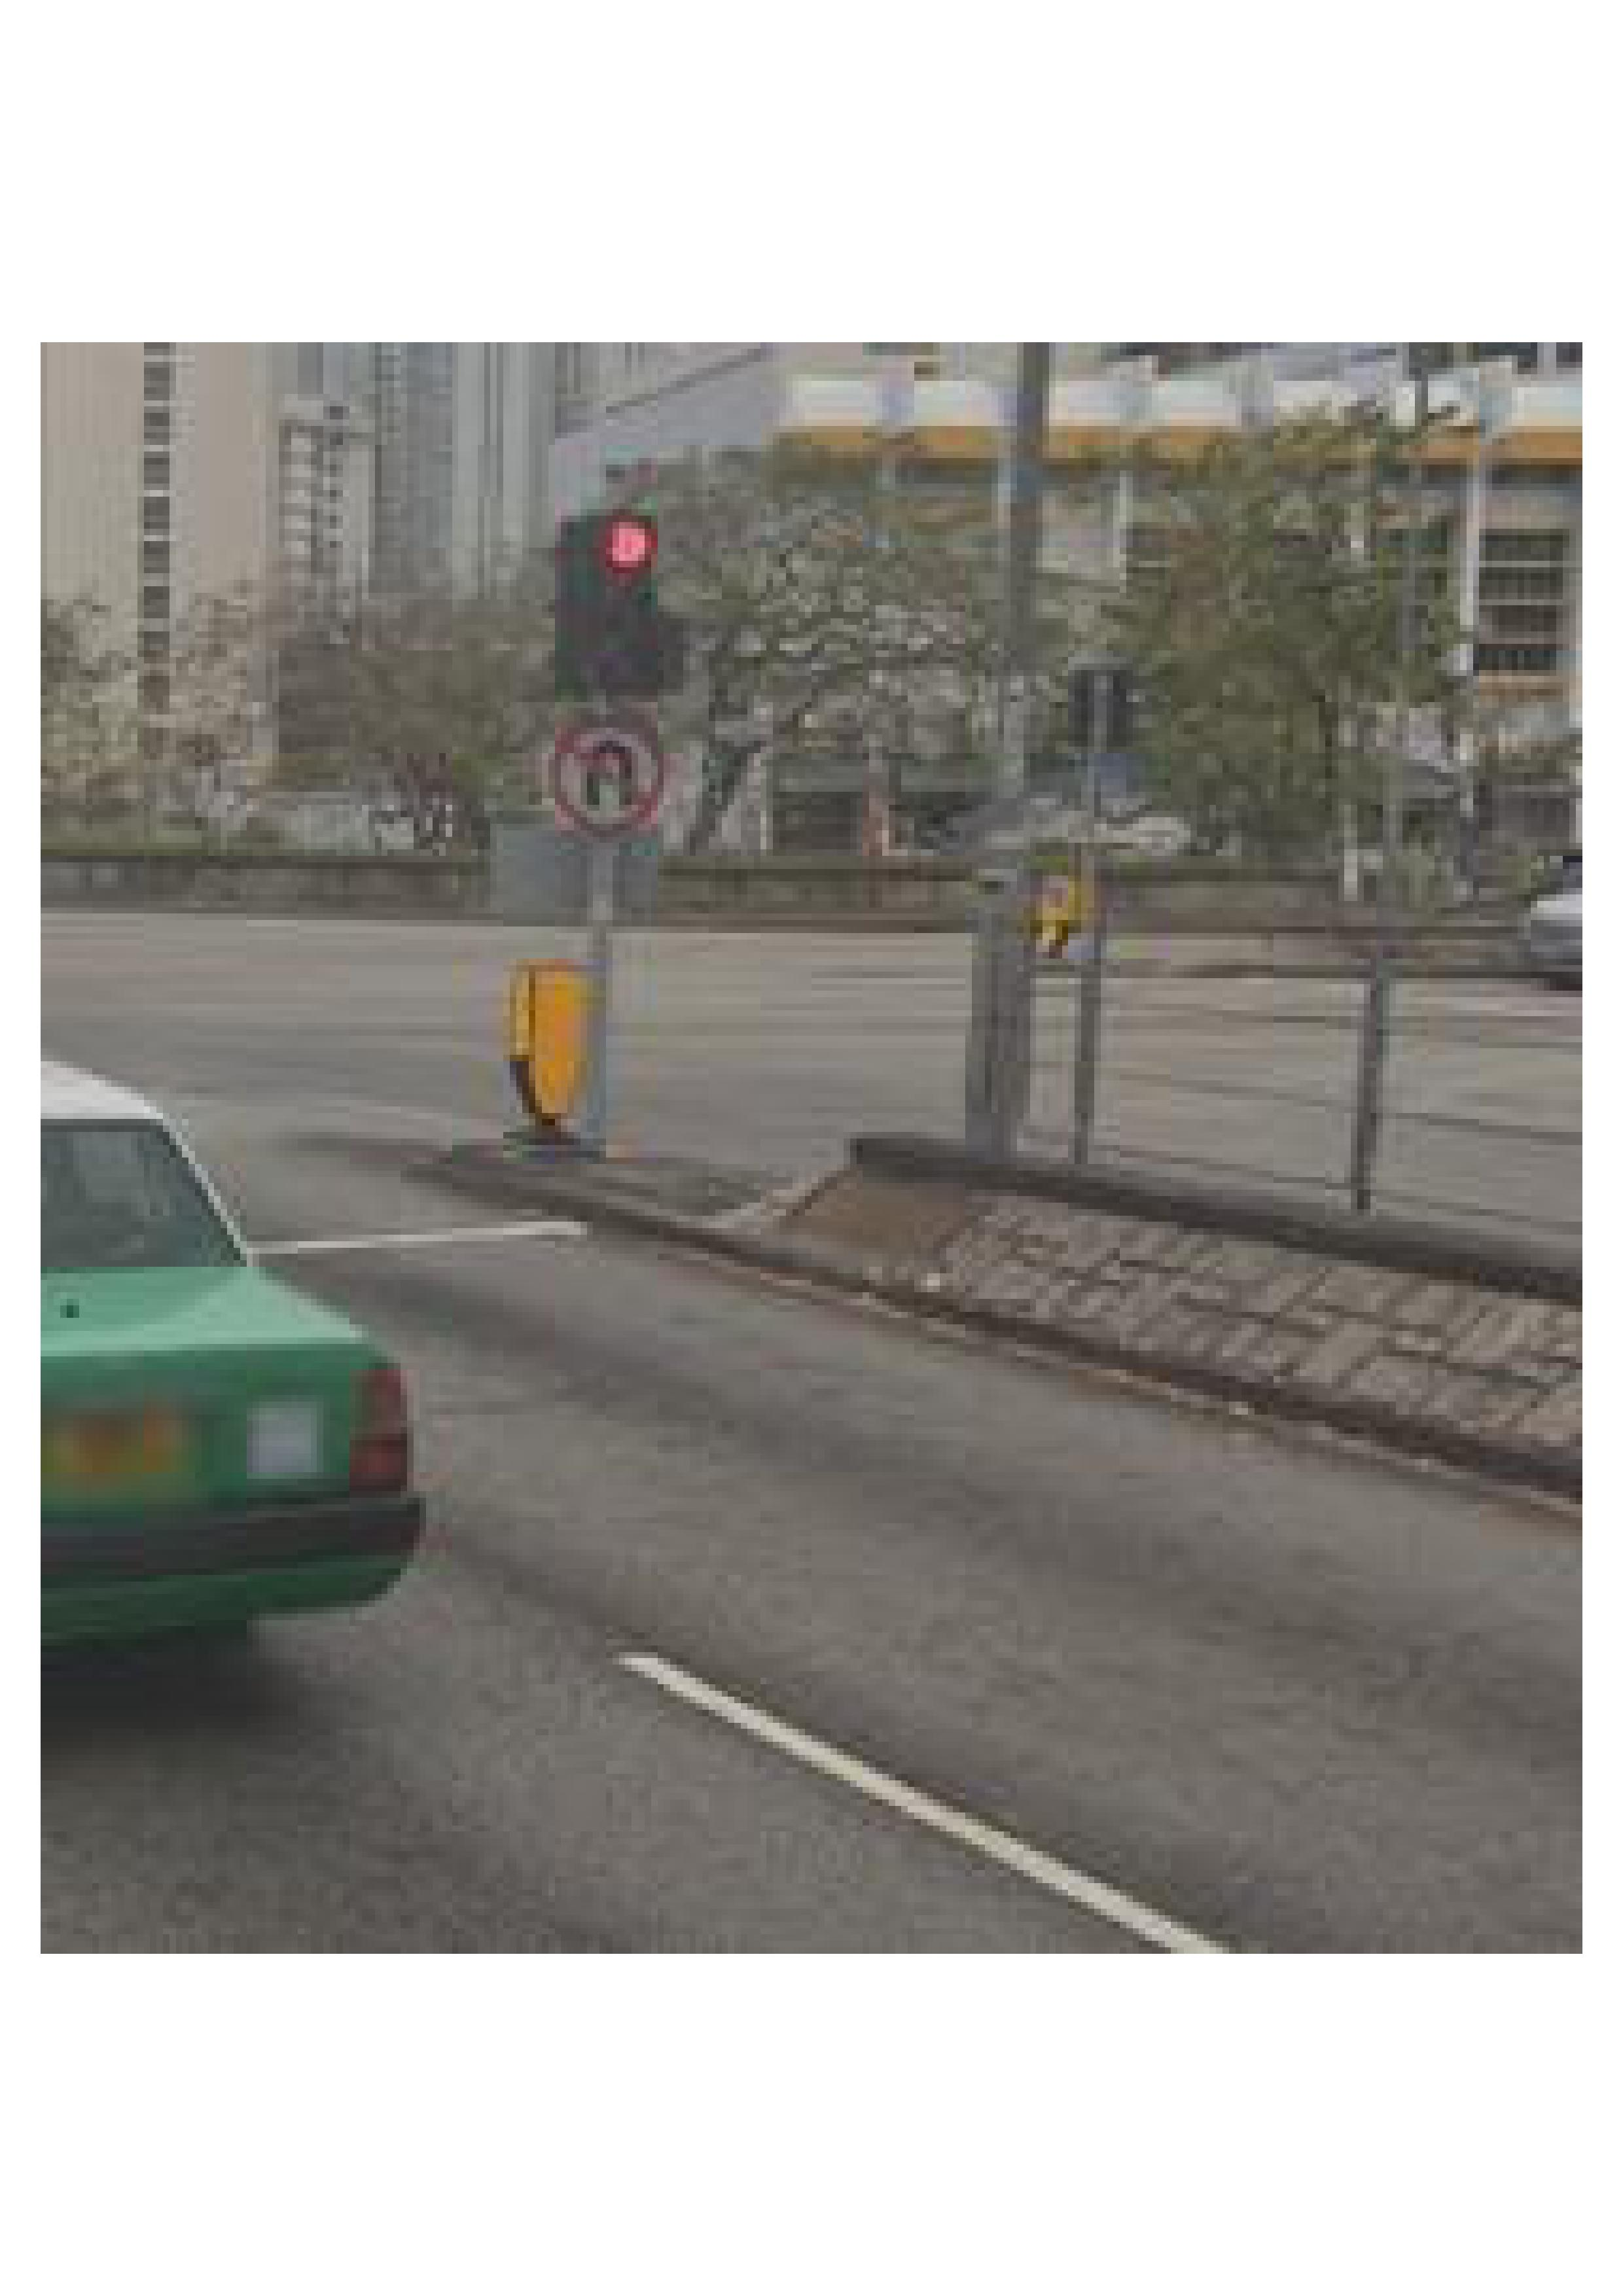No Uturn: (559, 725, 678, 830)
